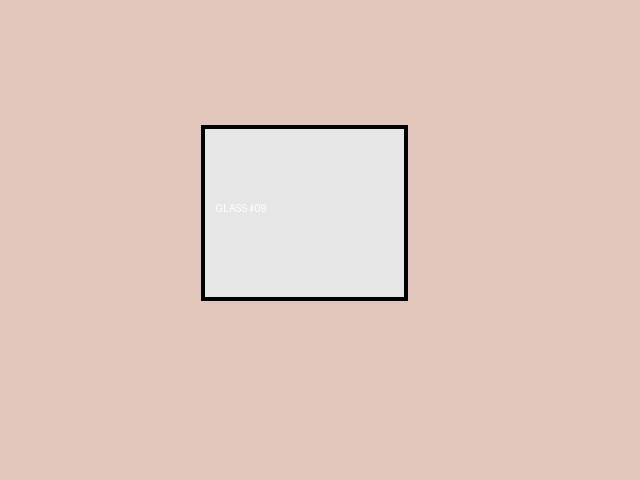water_glass: (201, 125, 407, 300)
